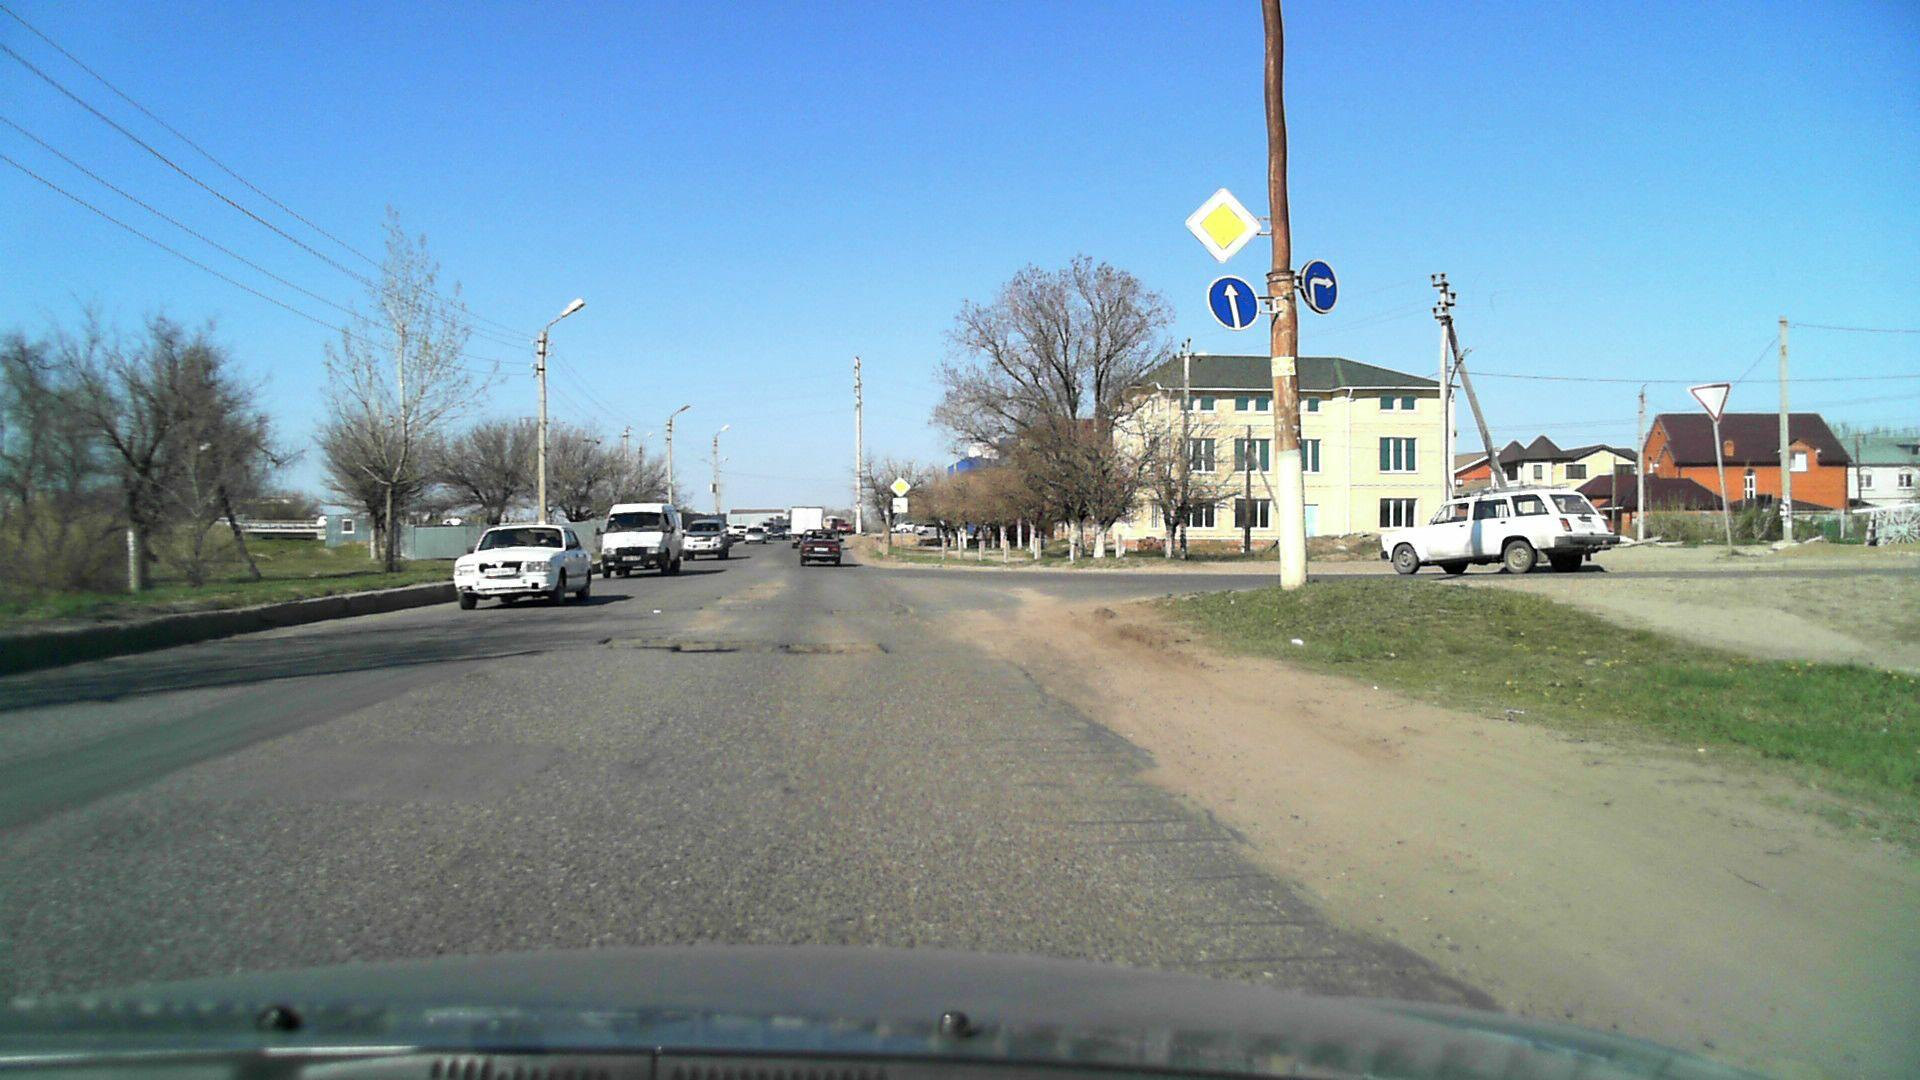2_1: (1183, 187, 1261, 264), (890, 476, 910, 495)
2_4: (1684, 379, 1733, 420)
4_1_1: (1204, 274, 1259, 333), (1297, 257, 1338, 311)
8_13: (891, 498, 910, 514)
